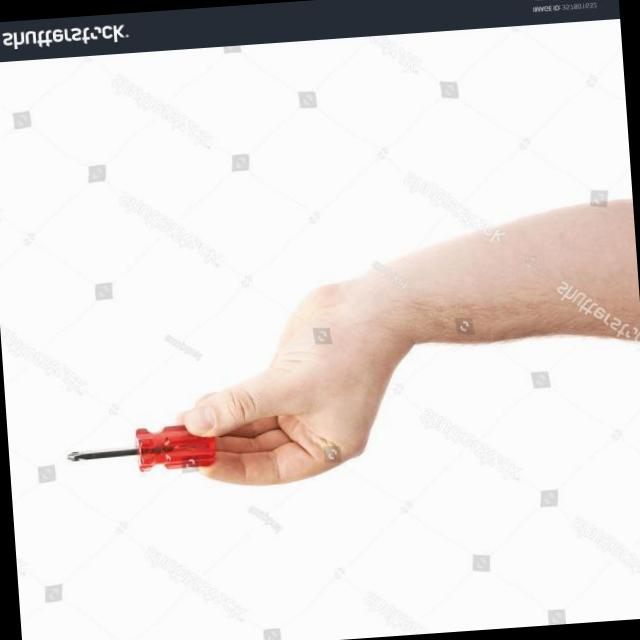screwdriver: (68, 425, 216, 472)
